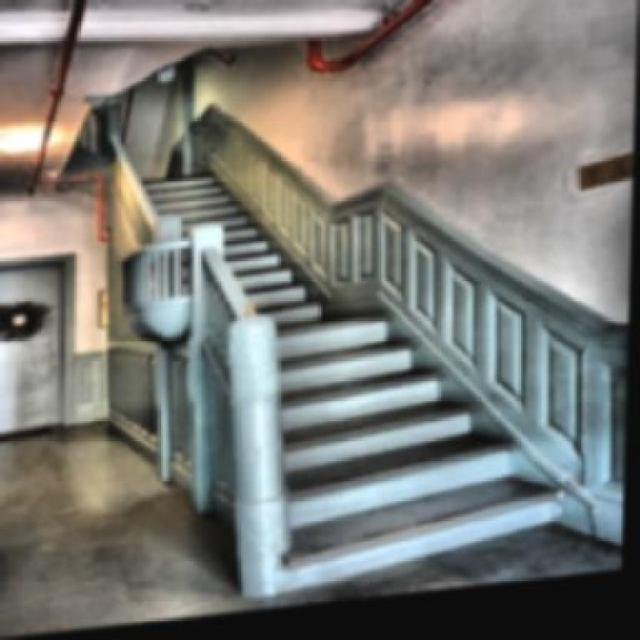stair: (100, 125, 574, 583)
